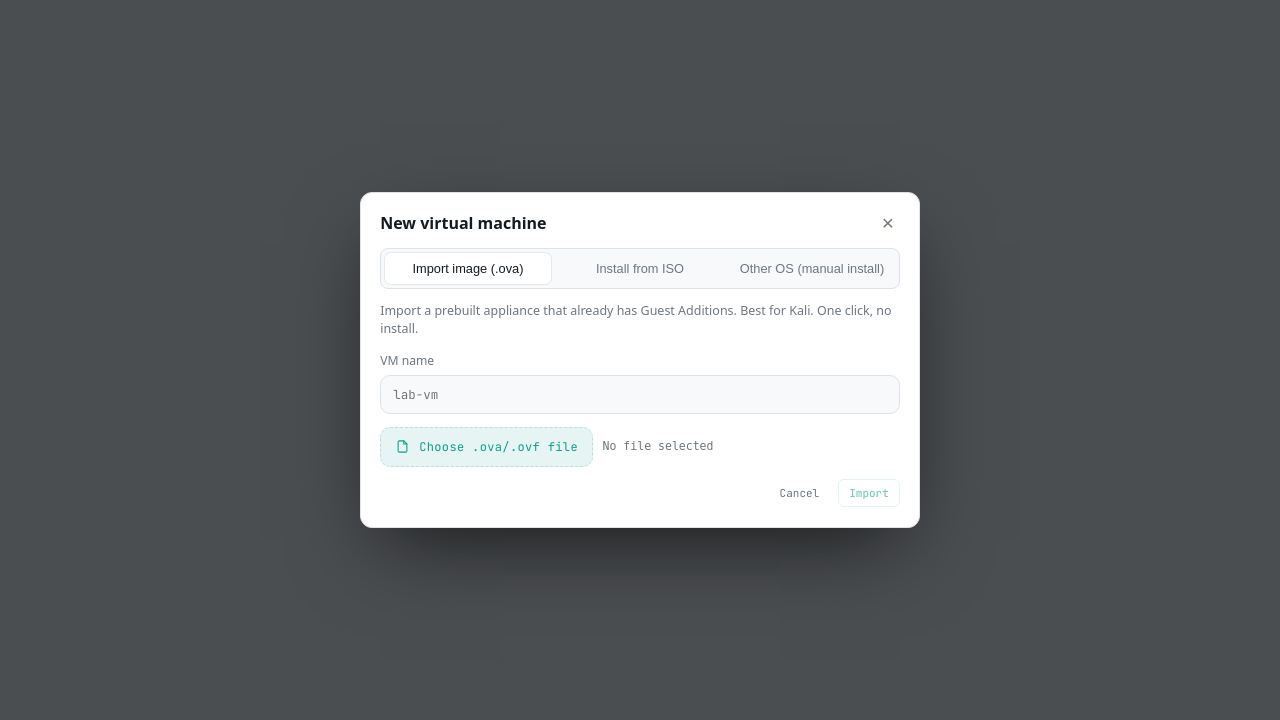
it: CreateVmWizard › gives up after repeated poll failures instead of spinning forever
Click the tab "Other OS (manual install)": coordinates (812, 268) [729,253,895,284]
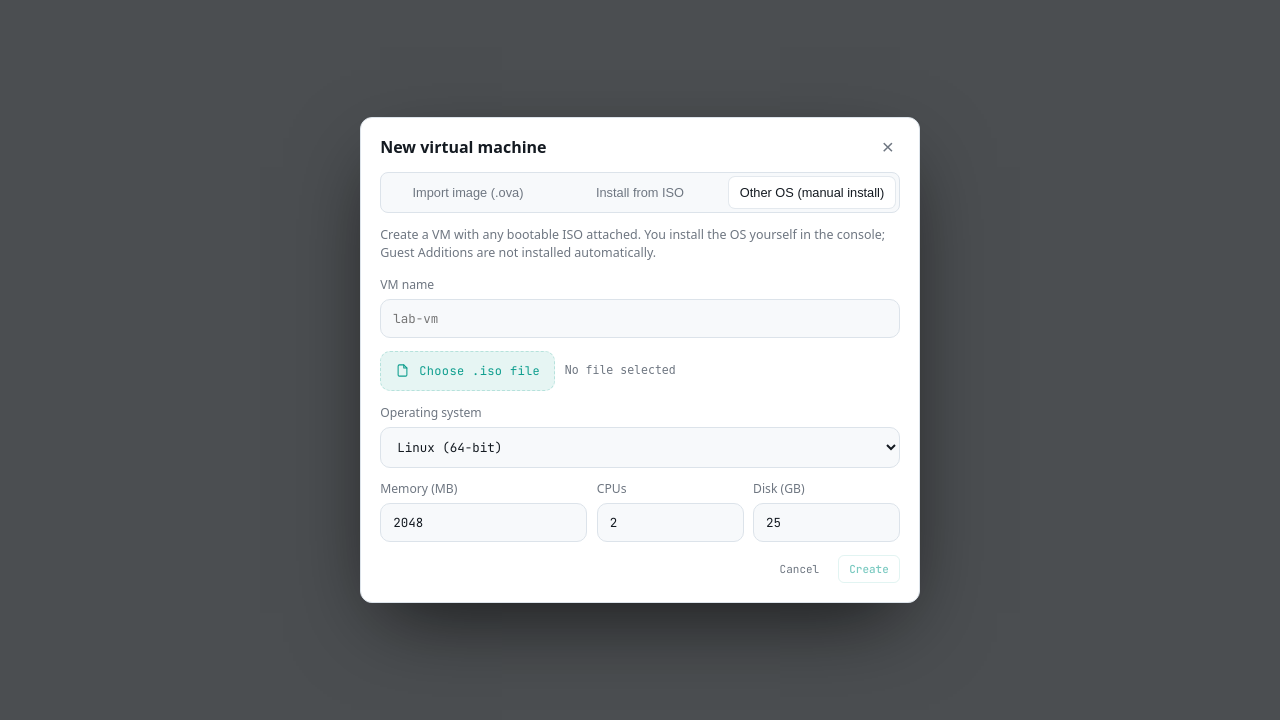
In the field with placeholder "lab-vm": coordinates (640, 318) [380,299,900,338], type "alp"
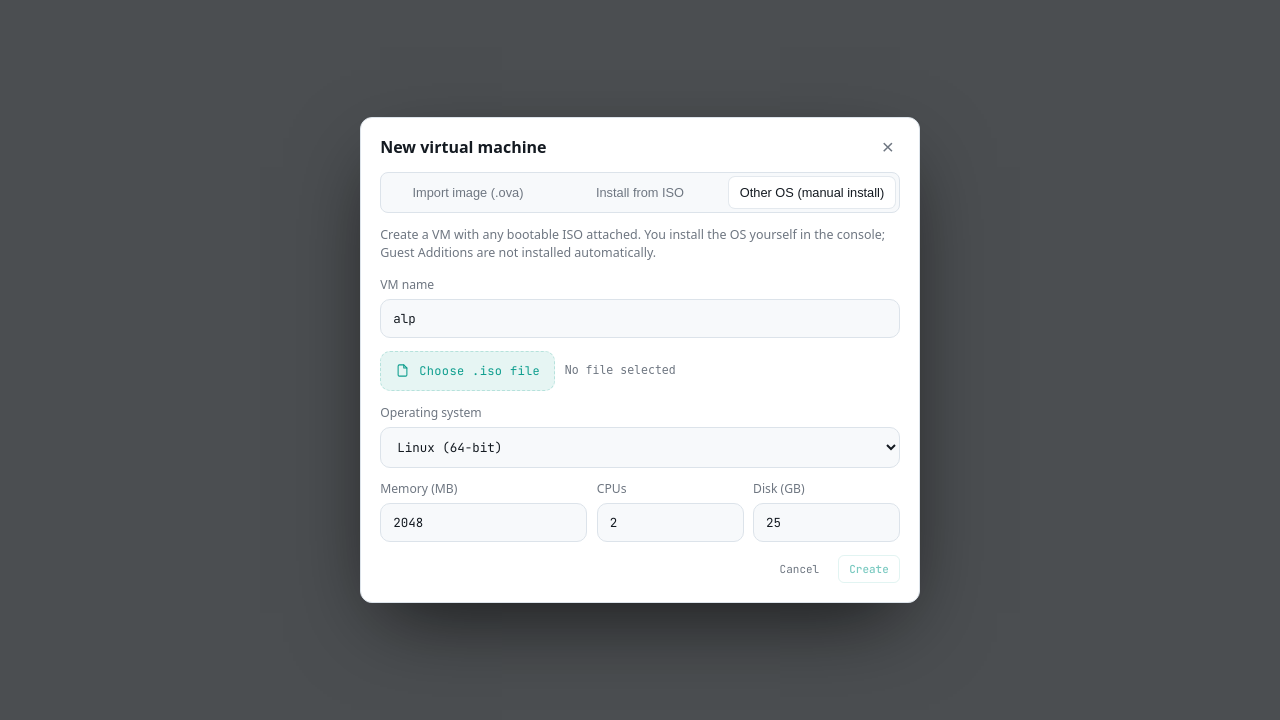
Click the button "Choose .iso file": coordinates (468, 371) [380,351,555,391]
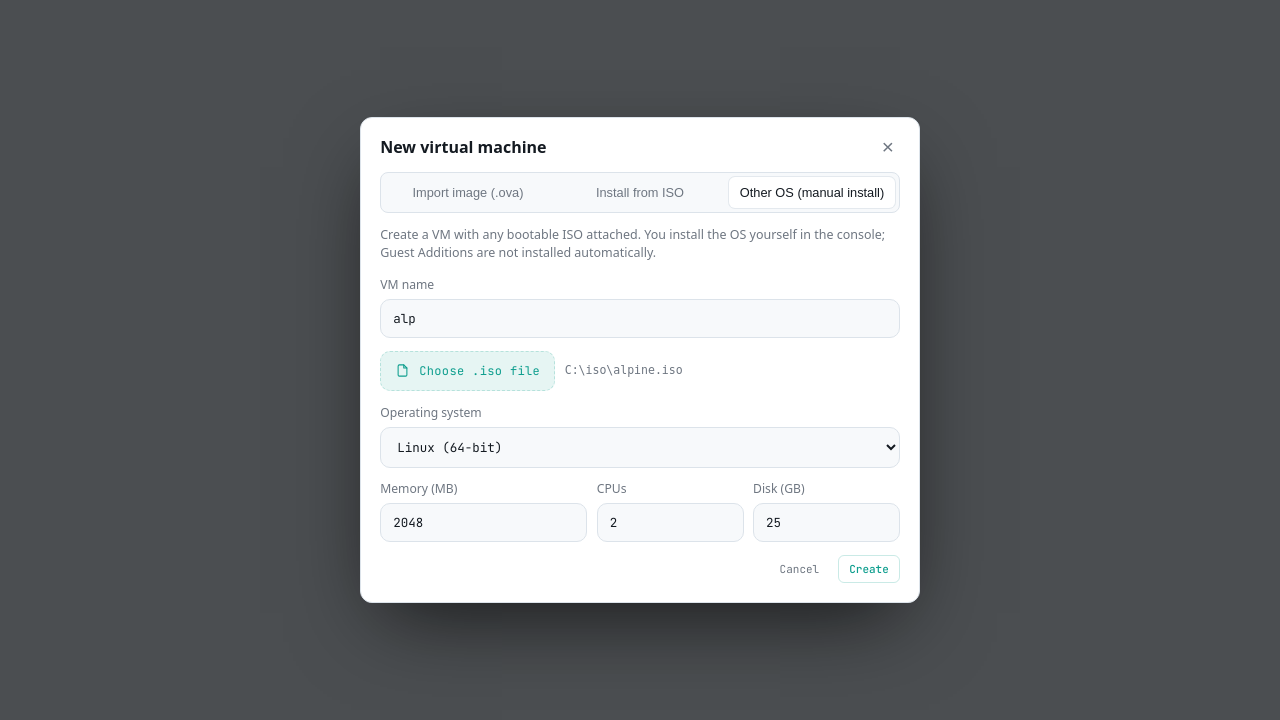
Result: the text "C:\\iso\\alpine.iso" is shown at [565,363,683,377]
Click the button "Create": coordinates (869, 569) [838,555,900,583]
Wait 20000 ms
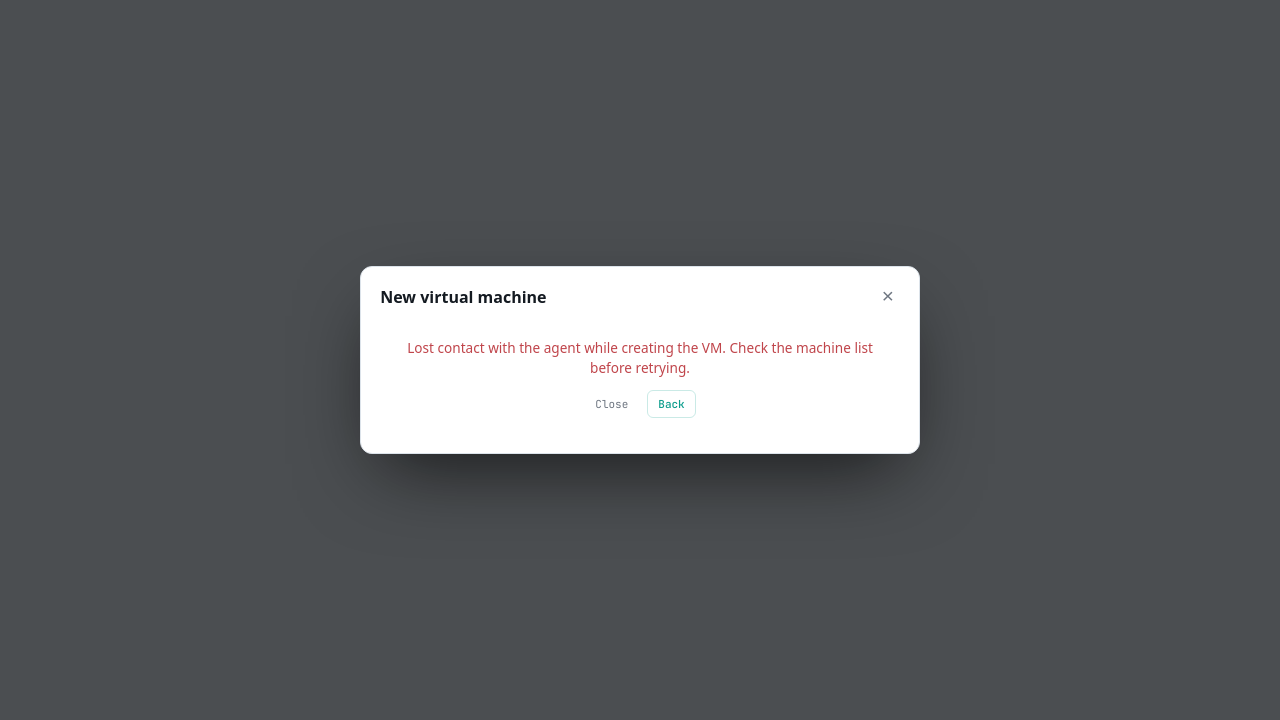
Result: the text "Lost contact with the agent while creating the VM. Check the machine list before retrying." is shown at [407,338,873,377]
